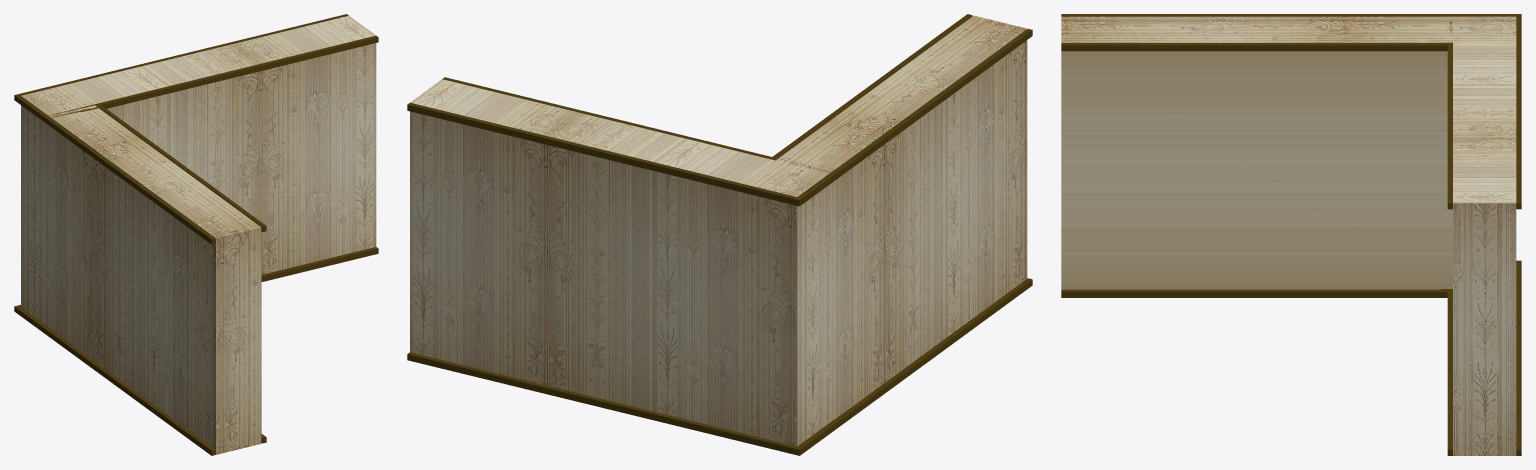
Rendered from ConnectWall_1.fbx.
3 views of the same model, side by side, from view 1: azimuth 30°, elevation 25°; view 2: azimuth 150°, elevation 25°; view 3: azimuth 270°, elevation 25° (orthographic). The views are drawn at different scales.
Parts seen in each view (by area): view 1: Cube.072, Cube.074, Cube.075, Cube.076, Cube.073; view 2: Cube.072, Cube.074, Cube.073, Cube.075, Cube.076; view 3: Cube.072, Cube.075, Cube.076, Cube.074, Cube.073.
Part boxes in pixels (x1,y1,x2,y2): Cube.072: [21, 16, 376, 454]; Cube.074: [14, 14, 378, 123]; Cube.075: [46, 105, 266, 244]; Cube.076: [46, 328, 266, 455]; Cube.073: [14, 247, 378, 334]; Cube.072: [410, 15, 1027, 446]; Cube.074: [407, 77, 837, 206]; Cube.073: [407, 352, 837, 455]; Cube.075: [773, 14, 1032, 178]; Cube.076: [832, 278, 1032, 427]; Cube.072: [1061, 16, 1516, 455]; Cube.075: [1061, 14, 1447, 51]; Cube.076: [1061, 289, 1447, 297]; Cube.074: [1447, 14, 1521, 209]; Cube.073: [1447, 260, 1521, 455].
Bounding box in the file's own units: 1414 × 880 × 1453.
